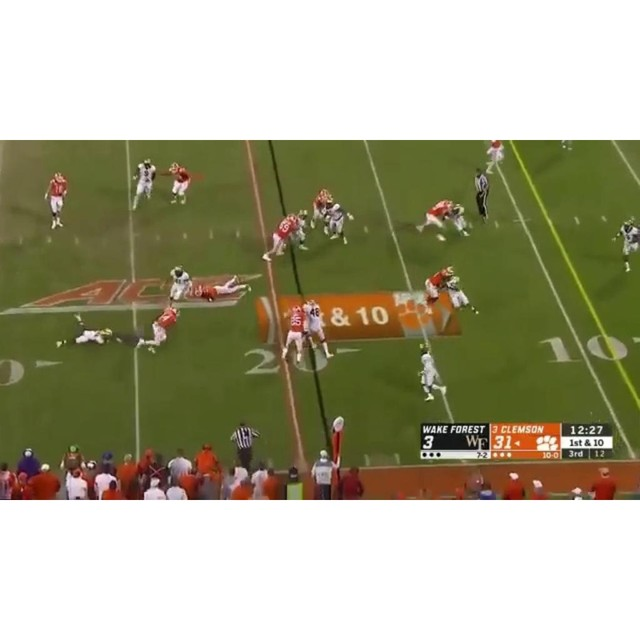american-football-player: (135, 305, 179, 354), (304, 298, 334, 362), (280, 304, 308, 368), (54, 320, 122, 346), (262, 214, 298, 262), (418, 342, 446, 402), (191, 275, 252, 302), (416, 199, 453, 242), (612, 218, 640, 274), (421, 264, 455, 307), (130, 158, 156, 211), (45, 172, 69, 229), (446, 279, 479, 317), (326, 202, 351, 245), (168, 162, 191, 205), (167, 265, 191, 302), (449, 202, 471, 237), (311, 189, 330, 229), (292, 209, 309, 252), (485, 140, 506, 171)
referee: (230, 420, 261, 470), (474, 169, 491, 222)
